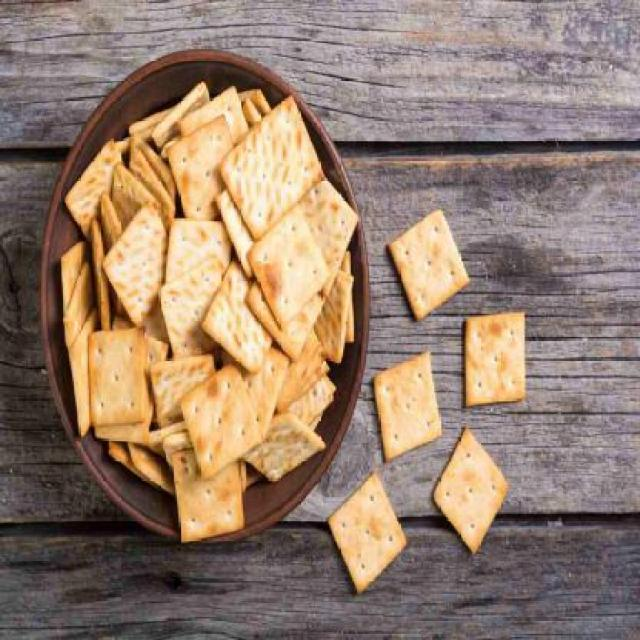Cracker packaged: (222, 100, 330, 232), (326, 474, 412, 597), (246, 208, 332, 326), (434, 424, 512, 550), (388, 209, 476, 320), (177, 365, 261, 477), (452, 302, 536, 411), (78, 332, 160, 434), (368, 354, 442, 458)
